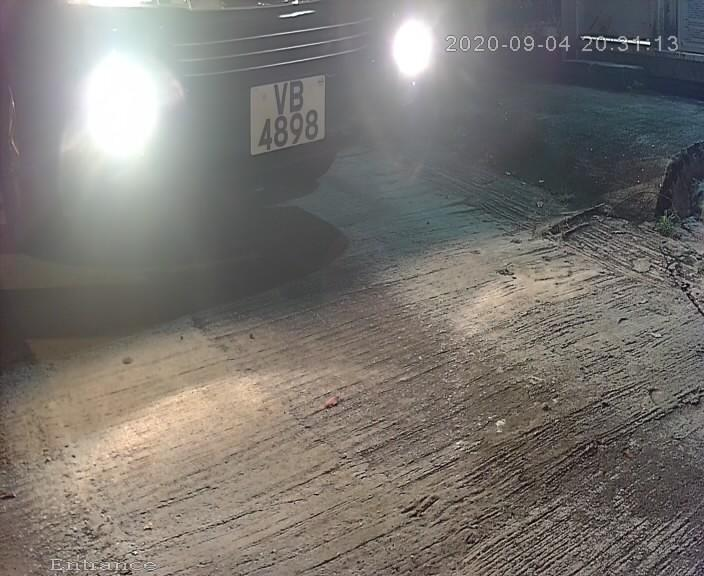License Plate: (239, 60, 334, 170)
